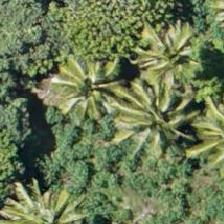coconut_tree: (43, 47, 133, 137), (102, 70, 192, 160), (124, 11, 214, 101)
